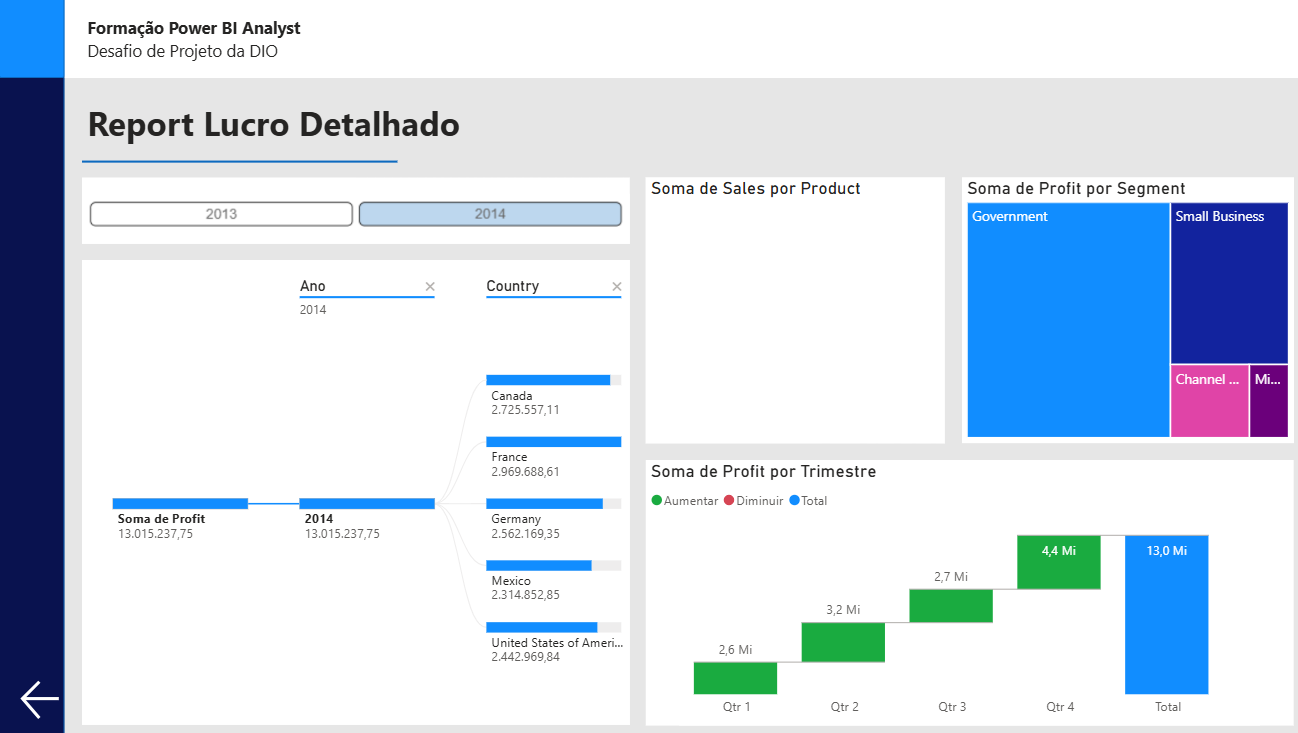

Layout of this report page (visuals, bound fields, positions):
{"tool":"powerbi","page":{"name":"Report Lucro Detalhado","canvas":[1280,720],"ordinal":1},"visuals":[{"type":"shape","box":[16,0,1264,720],"z":0},{"type":"shape","box":[16,0,64,720],"z":1000},{"type":"shape","box":[16,0,64,80],"z":2000},{"type":"shape","box":[80,0,1200,80],"z":3000},{"type":"textbox","box":[96,16,304,64],"z":4000},{"type":"shape","box":[96,144,304,32],"z":5000},{"type":"textbox","box":[96,96,416,64],"z":6000},{"type":"shape","box":[96,256,528,448],"z":7000},{"type":"shape","box":[672,448,592,256],"z":8000},{"type":"shape","box":[640,176,288,256],"z":9000},{"type":"actionButton","box":[32,656,48,48],"z":10000},{"type":"decompositionTreeVisual","fields":{"ExplainBy":["financials.Date.Variation.Hierarquia de datas.Ano","financials.Country"],"Analyze":["Sum(financials.Profit)"]},"box":[96,256,528,448],"z":11000},{"type":"shape","box":[96,176,528,64],"z":12000},{"type":"ChicletSlicer1448559807354","fields":{"Category":["financials.Date.Variation.Hierarquia de datas.Ano"]},"box":[96,192,528,48],"z":14000},{"type":"shape","box":[944,176,320,256],"z":14001},{"type":"RadarChart1446119667547","fields":{"Y":["Sum(financials. Sales)"],"Category":["financials.Product"]},"box":[640,176,288,256],"z":14002},{"type":"treemap","fields":{"Group":["financials.Segment"],"Values":["Sum(financials.Profit)"]},"box":[944,176,320,256],"z":14003},{"type":"waterfallChart","fields":{"Category":["financials.Date.Variation.Hierarquia de datas.Trimestre"],"Y":["Sum(financials.Profit)"]},"box":[640,448,592,256],"z":14004}]}

Visuals, with their boxes on the page's 1280x720 design canvas (x1, y1, x2, y2). These are canvas units, not pixel positions in the 1298x733 screenshot, which may show the page scaled, cropped or inside an application window:
shape: detection(16, 0, 1280, 720)
shape: detection(16, 0, 80, 720)
shape: detection(16, 0, 80, 80)
shape: detection(80, 0, 1280, 80)
textbox: detection(96, 16, 400, 80)
shape: detection(96, 144, 400, 176)
textbox: detection(96, 96, 512, 160)
shape: detection(96, 256, 624, 704)
shape: detection(672, 448, 1264, 704)
shape: detection(640, 176, 928, 432)
actionButton: detection(32, 656, 80, 704)
decompositionTreeVisual - financials.Date.Variation.Hierarquia de datas.Ano x financials.Country: detection(96, 256, 624, 704)
shape: detection(96, 176, 624, 240)
ChicletSlicer1448559807354 - financials.Date.Variation.Hierarquia de datas.Ano: detection(96, 192, 624, 240)
shape: detection(944, 176, 1264, 432)
RadarChart1446119667547 - Sum(financials. Sales) x financials.Product: detection(640, 176, 928, 432)
treemap - financials.Segment x Sum(financials.Profit): detection(944, 176, 1264, 432)
waterfallChart - financials.Date.Variation.Hierarquia de datas.Trimestre x Sum(financials.Profit): detection(640, 448, 1232, 704)
